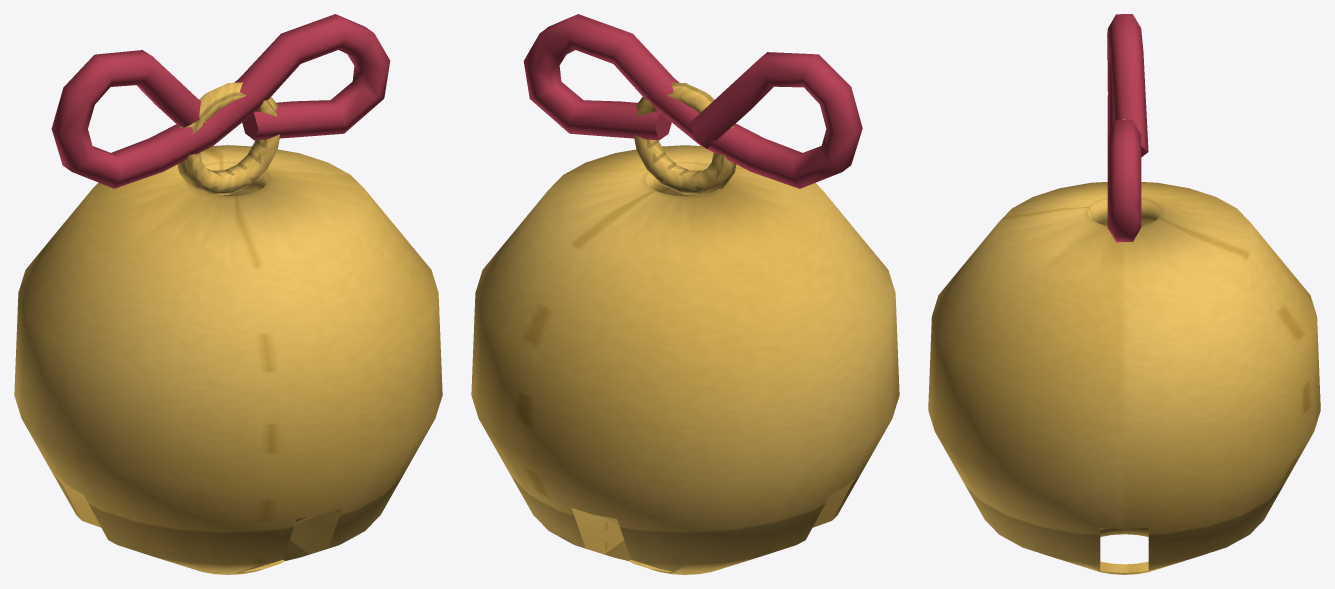
File: cat_bell.obj
The picture shows the model from 3 angles, left to right: view 1: azimuth 30°, elevation 25°; view 2: azimuth 150°, elevation 25°; view 3: azimuth 270°, elevation 25°; orthographic projection. The views are drawn at different scales.
Visible parts, largest first — view 1: A_HollowBell.001_cat_bell_brass, D_CollarBow.001_cat_bell_collar, C_AttachmentLoop.001_cat_bell_brass; view 2: A_HollowBell.001_cat_bell_brass, D_CollarBow.001_cat_bell_collar, C_AttachmentLoop.001_cat_bell_brass; view 3: A_HollowBell.001_cat_bell_brass, D_CollarBow.001_cat_bell_collar.
Boxes of the visible parts, <box> form: A_HollowBell.001_cat_bell_brass: <box>14,145,442,574</box>; D_CollarBow.001_cat_bell_collar: <box>51,14,390,188</box>; C_AttachmentLoop.001_cat_bell_brass: <box>177,82,279,195</box>; A_HollowBell.001_cat_bell_brass: <box>471,145,899,574</box>; D_CollarBow.001_cat_bell_collar: <box>523,14,862,188</box>; C_AttachmentLoop.001_cat_bell_brass: <box>634,82,736,195</box>; A_HollowBell.001_cat_bell_brass: <box>928,182,1320,574</box>; D_CollarBow.001_cat_bell_collar: <box>1107,14,1148,242</box>.
Bounding box in the file's own units: 1.06 × 1.44 × 1.06.
